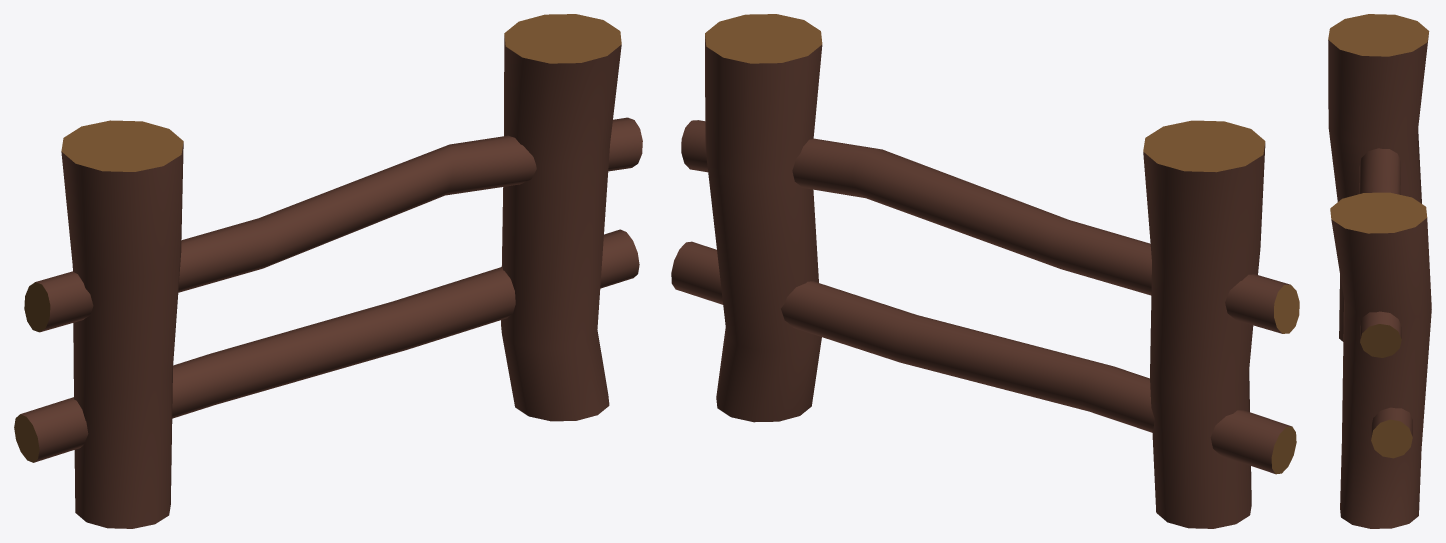
Rendered from WoodRoundFence_Damaged3.fbx.
3 views of the same model, side by side, from view 1: azimuth 30°, elevation 25°; view 2: azimuth 150°, elevation 25°; view 3: azimuth 270°, elevation 25° (orthographic). The views are drawn at different scales.
Parts seen in each view (by area): view 1: WoodRoundFence_Damaged3; view 2: WoodRoundFence_Damaged3; view 3: WoodRoundFence_Damaged3.
Boxes of the visible parts, x1,y1,x2,y2 form: WoodRoundFence_Damaged3: [14, 14, 642, 528]; WoodRoundFence_Damaged3: [671, 14, 1299, 528]; WoodRoundFence_Damaged3: [1328, 14, 1431, 528].
Size of the model in its own units: 303 by 174 by 54.54.
